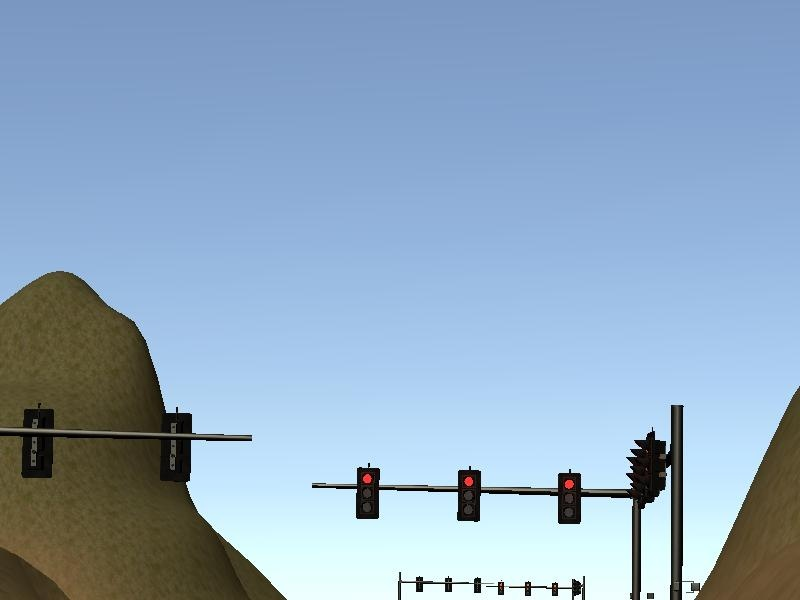RED: (356, 467, 378, 521), (458, 467, 480, 521), (558, 472, 580, 526)
